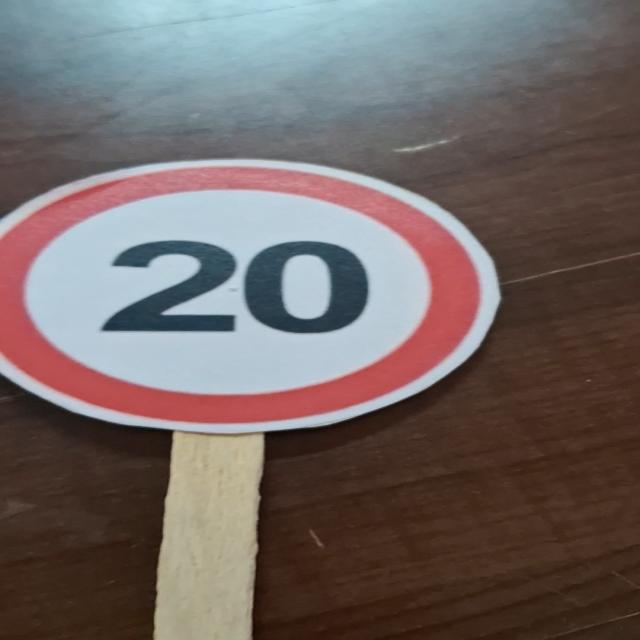Speed20: (0, 147, 511, 441)
